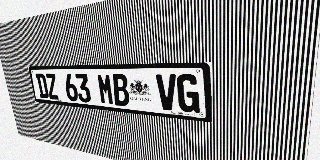3: (75, 74, 91, 103)
6: (63, 74, 79, 102)
B: (111, 74, 130, 107)
D: (35, 73, 49, 99)
G: (176, 74, 200, 113)
M: (97, 74, 115, 105)
V: (156, 74, 178, 111)
Z: (45, 73, 59, 100)
